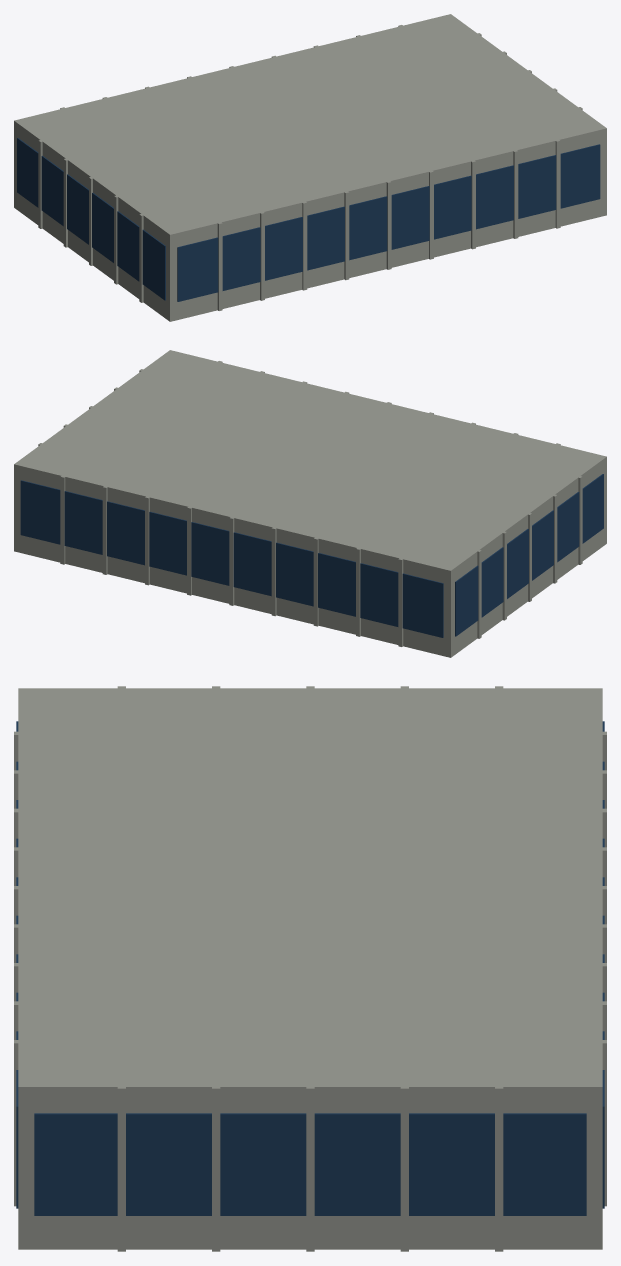
Rendered from mashup-main-mid-prebuilt.fbx.
3 renders of one model, top to bottom at view 1: azimuth 30°, elevation 25°; view 2: azimuth 150°, elevation 25°; view 3: azimuth 270°, elevation 25°, orthographic. The views are drawn at different scales.
Visible parts, largest first — view 1: a201.MainMid; view 2: a201.MainMid; view 3: a201.MainMid.
Part boxes in pixels (x1,y1,x2,y2): a201.MainMid: (14,14,606,321); a201.MainMid: (14,350,606,657); a201.MainMid: (14,686,606,1251).
Size of the model in its own units: 21.2 by 4 by 13.2.
